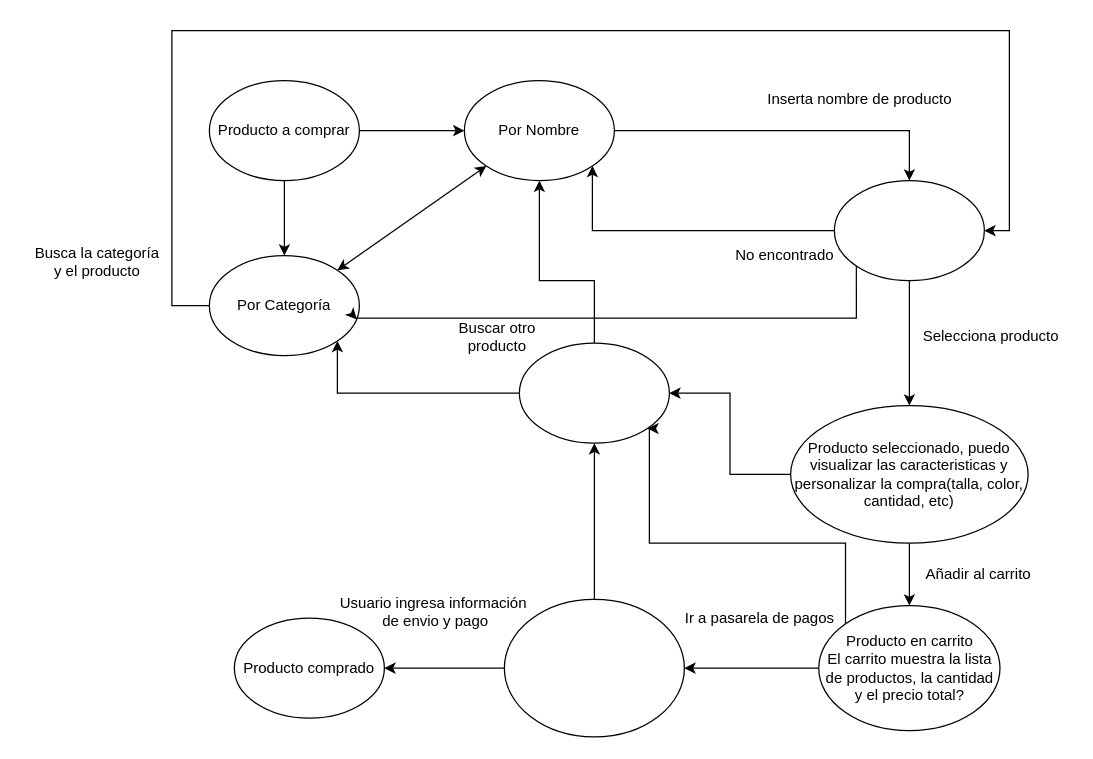
Some shapes in this 1093 by 759 pixel diagram are drawn without their labels. Here are the shapes that lost their labels. From the top down, the box of each, then its label:
(833, 179, 984, 281): Producto encontrado
(518, 342, 669, 443): Salir de la página o buscar otro producto
(503, 598, 684, 737): Producto en sección de pago Se puede pagar con TC o Paypal?
